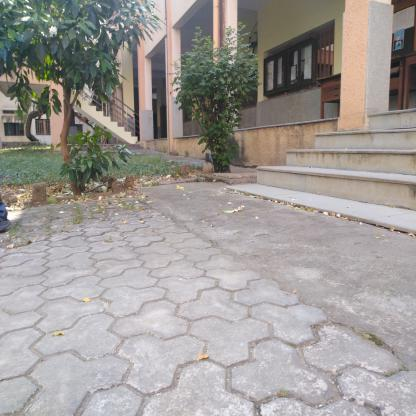stairs: (369, 111, 416, 218)
